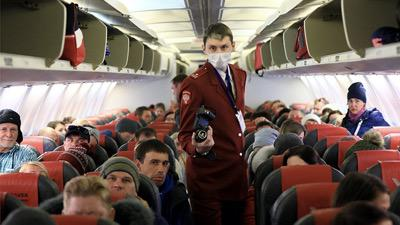with_mask: (205, 43, 230, 69)
without_mask: (142, 153, 166, 186), (0, 127, 17, 150), (346, 99, 364, 114), (170, 86, 180, 102)
